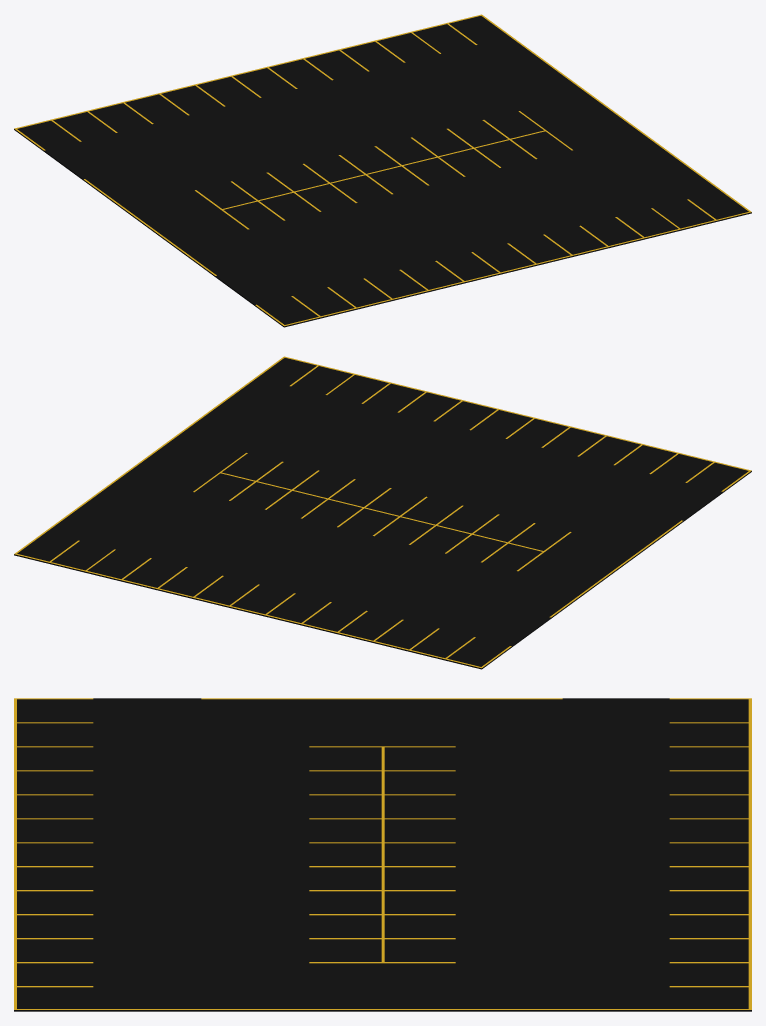
File: parking.fbx
3 renders of one model, top to bottom at view 1: azimuth 30°, elevation 25°; view 2: azimuth 150°, elevation 25°; view 3: azimuth 270°, elevation 25°, orthographic. The views are drawn at different scales.
Visible parts, largest first — view 1: Cube; view 2: Cube; view 3: Cube.
Boxes of the visible parts, x1,y1,x2,y2 form: Cube: [14, 14, 751, 327]; Cube: [14, 356, 751, 669]; Cube: [14, 698, 751, 1011].
Bounding box in the file's own units: 4000 × 10 × 4000.
